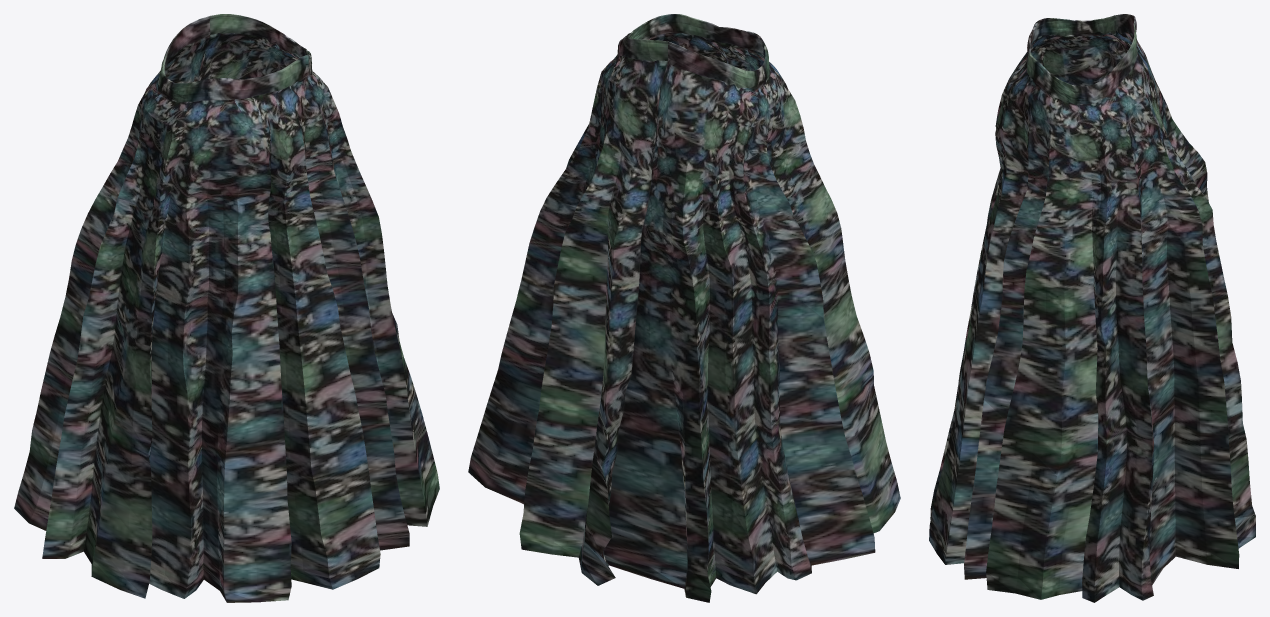
File: mhw_toigo_long_full_skirt.glb
3 views of the same model, side by side, from view 1: azimuth 30°, elevation 25°; view 2: azimuth 150°, elevation 25°; view 3: azimuth 270°, elevation 25° (orthographic).
Parts seen in each view (by area): view 1: mhw_toigo_long_full_skirt; view 2: mhw_toigo_long_full_skirt; view 3: mhw_toigo_long_full_skirt.
Boxes of the visible parts, x1,y1,x2,y2 form: mhw_toigo_long_full_skirt: [14, 14, 439, 602]; mhw_toigo_long_full_skirt: [468, 14, 900, 602]; mhw_toigo_long_full_skirt: [929, 14, 1255, 602].
Bounding box in the file's own units: 0.8435 × 1.08 × 0.6168.
1 material, 1 textured.
